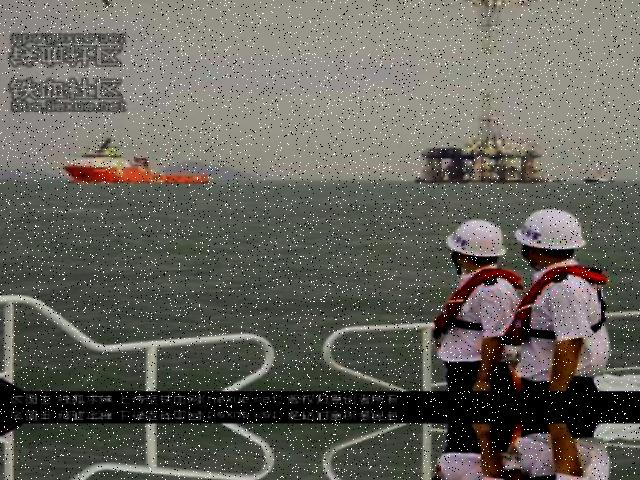Helmet: (510, 204, 589, 256), (438, 215, 510, 263)
